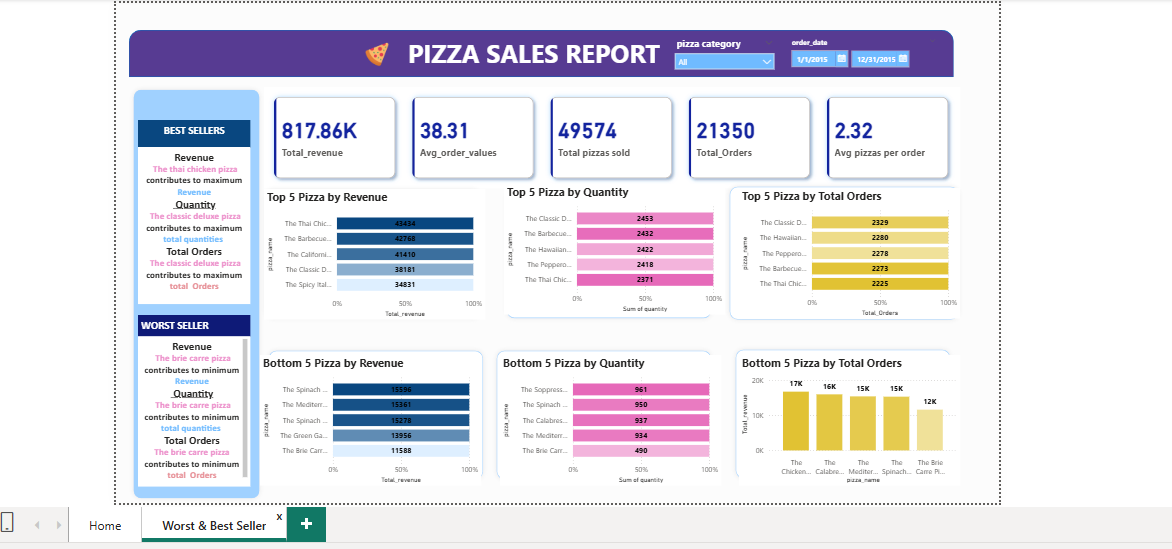

Layout of this report page (visuals, bound fields, positions):
{"tool":"powerbi","page":{"name":"Worst & Best Seller","canvas":[1500,850],"ordinal":1},"visuals":[{"type":"shape","box":[21.5,138.8,229.7,710.5],"z":0},{"type":"cardVisual","fields":{"Data":["pizza_sales.Total_revenue","pizza_sales.Avg_order_values","pizza_sales.Total pizzas sold","pizza_sales.Total_Orders","pizza_sales.Avg pizzas per order"]},"box":[251.2,143.5,1184.2,172.2],"z":1000},{"type":"shape","box":[22.3,46.7,1402.1,80.1],"z":2000},{"type":"textbox","box":[491.4,51.7,469,70.7],"z":3000},{"type":"shape","box":[246.4,308.6,380.4,234.4],"z":4000},{"type":"shape","box":[655.5,308.6,363.6,234.4],"z":5000},{"type":"shape","box":[1035.9,303.9,405.2,241.8],"z":6000},{"type":"textbox","box":[37.8,198.1,191.4,46.7],"z":7000},{"type":"textbox","box":[37.8,244.8,191.4,267.1],"z":8000},{"type":"textbox","box":[37.8,565.3,191.4,255.9],"z":9000},{"type":"textbox","box":[37.8,529.7,191.4,35.6],"z":10000},{"type":"slicer","fields":{"Values":["pizza_sales.pizza_category"]},"box":[940.2,52.6,189,69.4],"z":11000},{"type":"slicer","fields":{"Values":["pizza_sales.order_date"]},"box":[1136.4,52.6,270.3,69.4],"z":12000},{"type":"shape","box":[1045.5,581.3,380.4,234.4],"z":13000},{"type":"shape","box":[638.8,583.7,380.4,234.4],"z":14000},{"type":"shape","box":[251.2,583.7,380.4,234.4],"z":15000},{"type":"hundredPercentStackedBarChart","title":"Top 5 Pizza by Revenue","fields":{"Y":["pizza_sales.Total_revenue"],"Category":["pizza_sales.pizza_name"]},"box":[251.6,317,375.8,222.2],"z":16000},{"type":"hundredPercentStackedBarChart","title":"Bottom 5 Pizza by Revenue","fields":{"Category":["pizza_sales.pizza_name"],"Y":["pizza_sales.Total_revenue"]},"box":[245.1,598,375.8,222.2],"z":17000},{"type":"hundredPercentStackedBarChart","title":"Top 5 Pizza by Quantity","fields":{"Category":["pizza_sales.pizza_name"],"Y":["Sum(pizza_sales.quantity)"]},"box":[660.1,307.2,375.8,222.2],"z":18000},{"type":"hundredPercentStackedBarChart","title":"Bottom 5 Pizza by Quantity","fields":{"Category":["pizza_sales.pizza_name"],"Y":["Sum(pizza_sales.quantity)"]},"box":[653.6,598,375.8,222.2],"z":19000},{"type":"hundredPercentStackedBarChart","title":"Top 5 Pizza by Total Orders","fields":{"Category":["pizza_sales.pizza_name"],"Y":["pizza_sales.Total_Orders"]},"box":[1058.8,313.7,375.8,222.2],"z":20000},{"type":"columnChart","title":"Bottom 5 Pizza by Total Orders ","fields":{"Category":["pizza_sales.pizza_name"],"Y":["pizza_sales.Total_revenue"]},"box":[1058.8,598,375.8,222.2],"z":21000},{"type":"image","box":[418.4,53.4,51.2,69],"z":21001}]}

Visuals, with their boxes on the page's 1500x850 design canvas (x1, y1, x2, y2). These are canvas units, not pixel positions in the 1172x549 screenshot, which may show the page scaled, cropped or inside an application window:
shape: select_region(22, 139, 251, 849)
cardVisual - pizza_sales.Total_revenue x pizza_sales.Avg_order_values: select_region(251, 144, 1435, 316)
shape: select_region(22, 47, 1424, 127)
textbox: select_region(491, 52, 960, 122)
shape: select_region(246, 309, 627, 543)
shape: select_region(656, 309, 1019, 543)
shape: select_region(1036, 304, 1441, 546)
textbox: select_region(38, 198, 229, 245)
textbox: select_region(38, 245, 229, 512)
textbox: select_region(38, 565, 229, 821)
textbox: select_region(38, 530, 229, 565)
slicer - pizza_sales.pizza_category: select_region(940, 53, 1129, 122)
slicer - pizza_sales.order_date: select_region(1136, 53, 1407, 122)
shape: select_region(1046, 581, 1426, 816)
shape: select_region(639, 584, 1019, 818)
shape: select_region(251, 584, 632, 818)
"Top 5 Pizza by Revenue" hundredPercentStackedBarChart: select_region(252, 317, 627, 539)
"Bottom 5 Pizza by Revenue" hundredPercentStackedBarChart: select_region(245, 598, 621, 820)
"Top 5 Pizza by Quantity" hundredPercentStackedBarChart: select_region(660, 307, 1036, 529)
"Bottom 5 Pizza by Quantity" hundredPercentStackedBarChart: select_region(654, 598, 1029, 820)
"Top 5 Pizza by Total Orders" hundredPercentStackedBarChart: select_region(1059, 314, 1435, 536)
"Bottom 5 Pizza by Total Orders " columnChart: select_region(1059, 598, 1435, 820)
image: select_region(418, 53, 470, 122)
